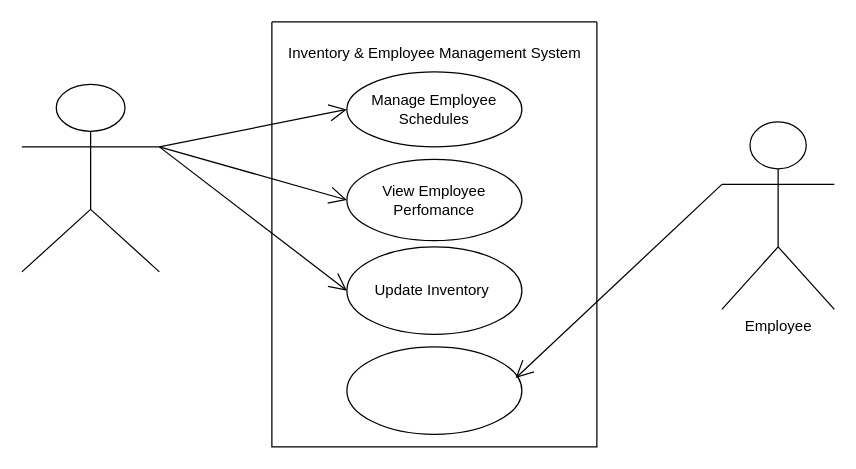
The diagram is 856 pixels wide and 469 high, and some of its shapes have lost their labels. The box of each missing label's shape, as (x1, y1, x2, y2) in pixels:
Manage Inventory: (346, 346, 522, 434)
Restaurant Manager: (21, 83, 159, 272)
